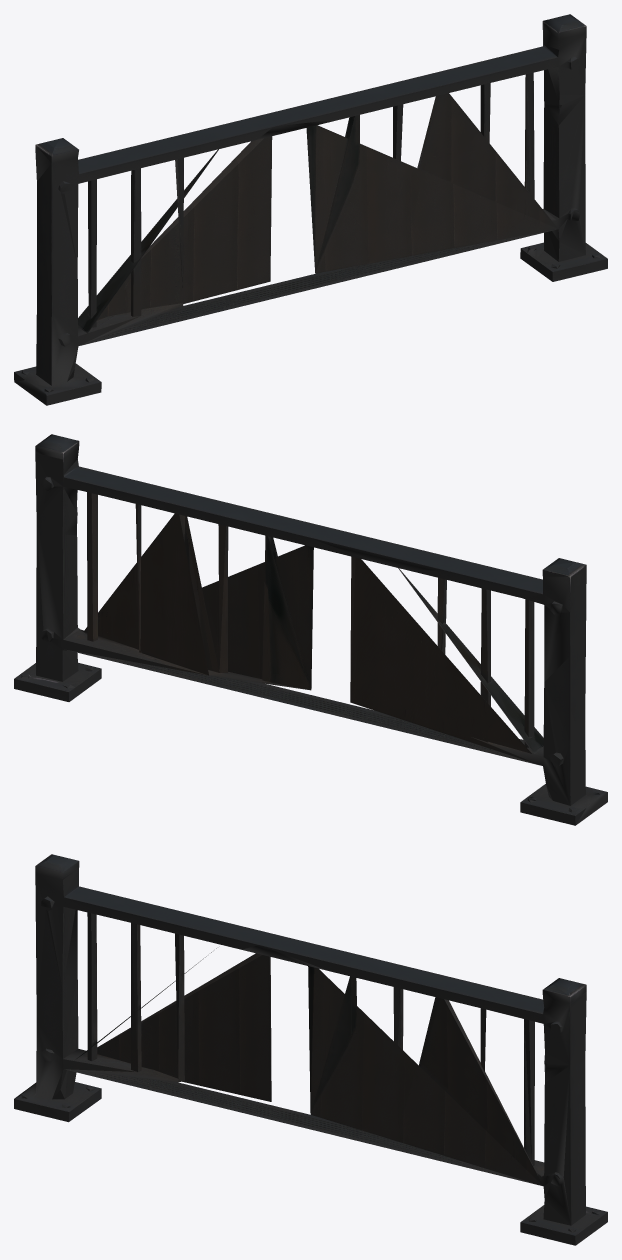
The model's file is ENV_StraightSafetyRailing.fbx.
3 renders of one model, top to bottom at view 1: azimuth 30°, elevation 25°; view 2: azimuth 150°, elevation 25°; view 3: azimuth 330°, elevation 25°, orthographic.
Parts seen in each view (by area): view 1: Mesh_0; view 2: Mesh_0; view 3: Mesh_0.
Boxes of the visible parts, x1,y1,x2,y2 form: Mesh_0: [14, 14, 607, 405]; Mesh_0: [14, 434, 607, 825]; Mesh_0: [14, 854, 607, 1245].
Bounding box in the file's own units: 190 × 78.85 × 19.11.
1 material, 1 textured.
